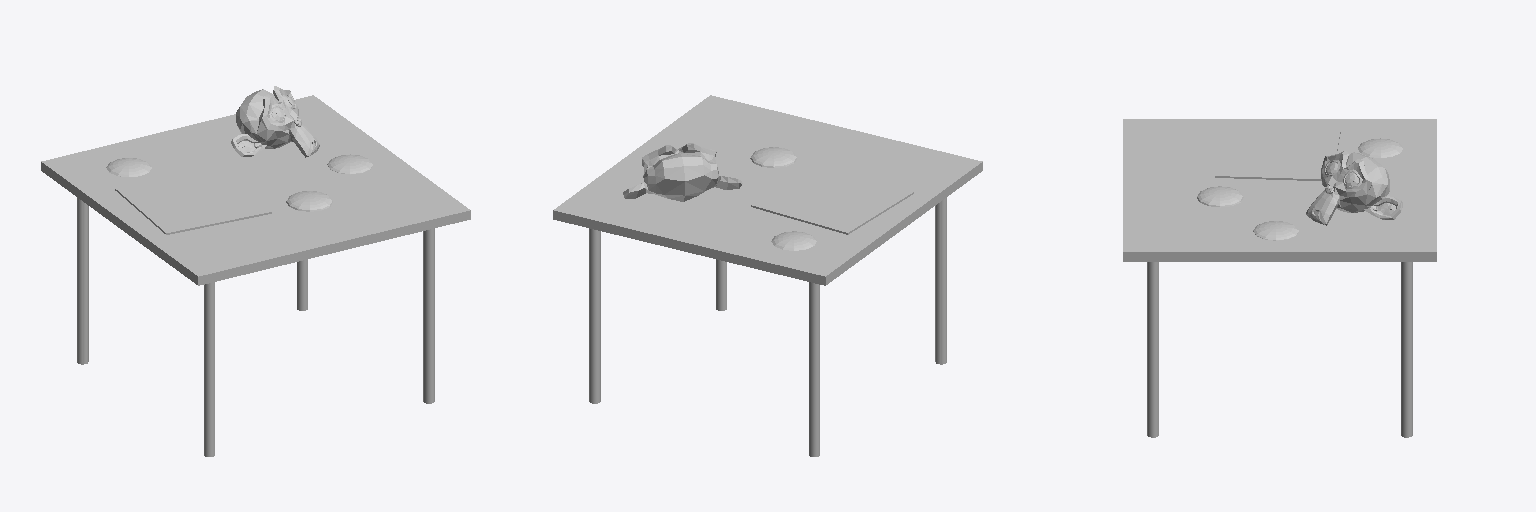
The model's file is quad_table.obj.
3 renders of one model, left to right at view 1: azimuth 30°, elevation 25°; view 2: azimuth 150°, elevation 25°; view 3: azimuth 270°, elevation 25°, orthographic.
Bounding box in the file's own units: 2.48 × 2.19 × 2.48.